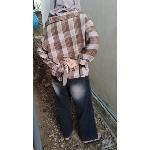Pisau: (58, 59, 72, 87)
